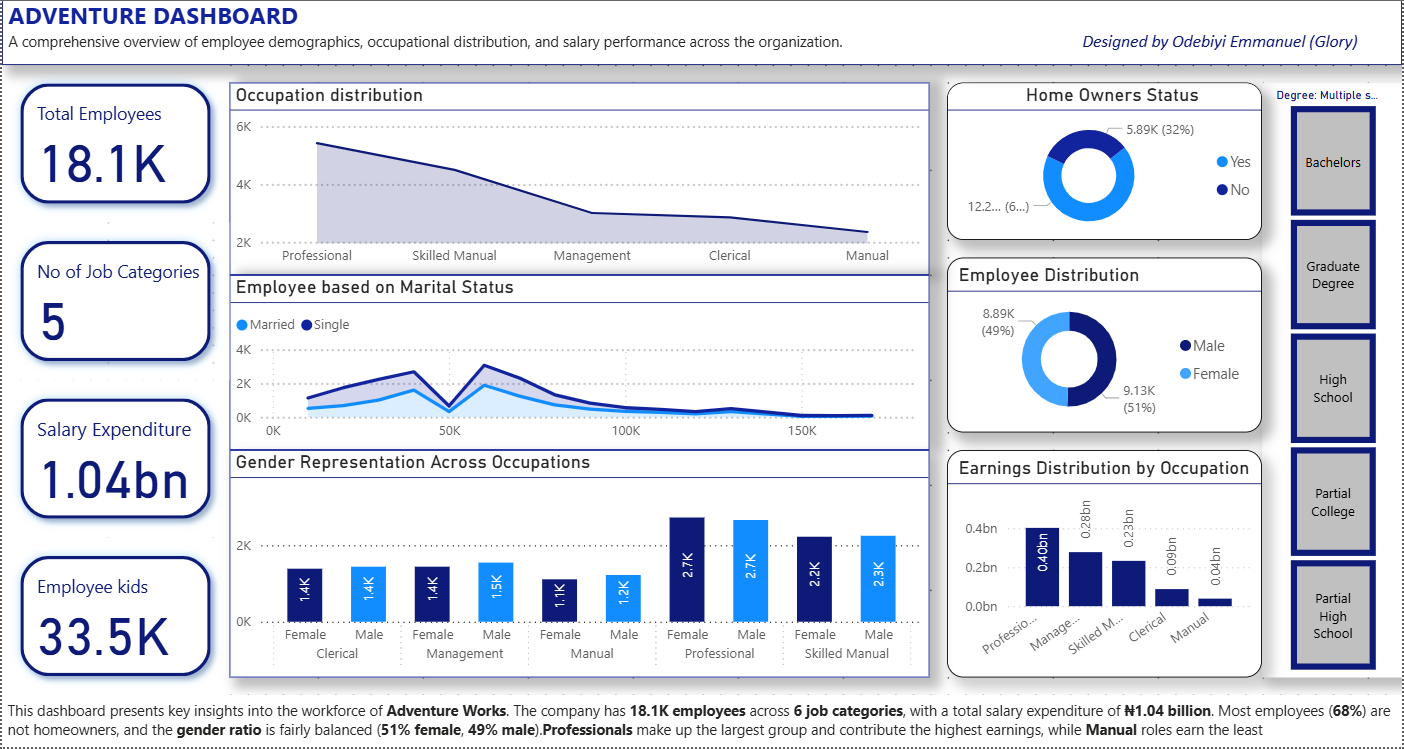

The page's visual inventory and layout, read from the dashboard file:
{"tool":"powerbi","page":{"name":"Page 1","canvas":[1280,720],"ordinal":0},"visuals":[{"type":"cardVisual","title":"TOTAL NUMBER","fields":{"Data":["AdcentureWorks DATA 1 011.Customers"]},"box":[0,96,208,144],"z":0},{"type":"cardVisual","title":"SALARY","fields":{"Data":["AdcentureWorks DATA 1 011.Sum of Salary"]},"box":[0,384,208,144],"z":1000},{"type":"cardVisual","title":"NO OF KIDS","fields":{"Data":["AdcentureWorks DATA 1 011.Kids"]},"box":[0,528,208,144],"z":2000},{"type":"slicer","fields":{"Values":["AdcentureWorks DATA 1 011.Education Level"]},"box":[1152,112,128,544],"z":3000},{"type":"donutChart","title":"Employee Distribution","fields":{"Category":["AdcentureWorks DATA 1 011.Gender"],"Y":["CountNonNull(AdcentureWorks DATA 1 011.Serial no)"]},"box":[864,272,288,160],"z":4000},{"type":"areaChart","title":"Occupation distribution","fields":{"Y":["CountNonNull(AdcentureWorks DATA 1 011.Serial no)"],"Category":["AdcentureWorks DATA 1 011.Occupation"]},"box":[208,112,640,176],"z":5000},{"type":"columnChart","title":"Earnings Distribution by Occupation","fields":{"Category":["AdcentureWorks DATA 1 011.Occupation"],"Y":["Sum(AdcentureWorks DATA 1 011.Salary)"]},"box":[864,448,288,208],"z":6000},{"type":"stackedAreaChart","title":"Employee based on Marital Status","fields":{"Category":["AdcentureWorks DATA 1 011.Salary"],"Series":["AdcentureWorks DATA 1 011.Marital Status"],"Y":["CountNonNull(AdcentureWorks DATA 1 011.Serial no)"]},"box":[208,288,640,160],"z":7000},{"type":"donutChart","title":"Home Owners Status","fields":{"Category":["AdcentureWorks DATA 1 011.Home Owner"],"Y":["CountNonNull(AdcentureWorks DATA 1 011.Serial no)"]},"box":[864,112,288,144],"z":8000},{"type":"textbox","box":[0,0,1280,96],"z":9000},{"type":"cardVisual","title":"COUNT OF OCCUPATION","fields":{"Data":["Count(AdcentureWorks DATA 1 011.Occupation)"]},"box":[0,240,208,144],"z":10000},{"type":"clusteredColumnChart","title":"Gender Representation Across Occupations","fields":{"Category":["AdcentureWorks DATA 1 011.Occupation","AdcentureWorks DATA 1 011.Gender"],"Y":["CountNonNull(AdcentureWorks DATA 1 011.Serial no)"]},"box":[208,448,640,208],"z":11000},{"type":"textbox","box":[0,672,1280,48],"z":12000}]}

Visuals, with their boxes on the page's 1280x720 design canvas (x1, y1, x2, y2). These are canvas units, not pixel positions in the 1404x749 screenshot, which may show the page scaled, cropped or inside an application window:
"TOTAL NUMBER" cardVisual: region(0, 96, 208, 240)
"SALARY" cardVisual: region(0, 384, 208, 528)
"NO OF KIDS" cardVisual: region(0, 528, 208, 672)
slicer - AdcentureWorks DATA 1 011.Education Level: region(1152, 112, 1280, 656)
"Employee Distribution" donutChart: region(864, 272, 1152, 432)
"Occupation distribution" areaChart: region(208, 112, 848, 288)
"Earnings Distribution by Occupation" columnChart: region(864, 448, 1152, 656)
"Employee based on Marital Status" stackedAreaChart: region(208, 288, 848, 448)
"Home Owners Status" donutChart: region(864, 112, 1152, 256)
textbox: region(0, 0, 1280, 96)
"COUNT OF OCCUPATION" cardVisual: region(0, 240, 208, 384)
"Gender Representation Across Occupations" clusteredColumnChart: region(208, 448, 848, 656)
textbox: region(0, 672, 1280, 720)
